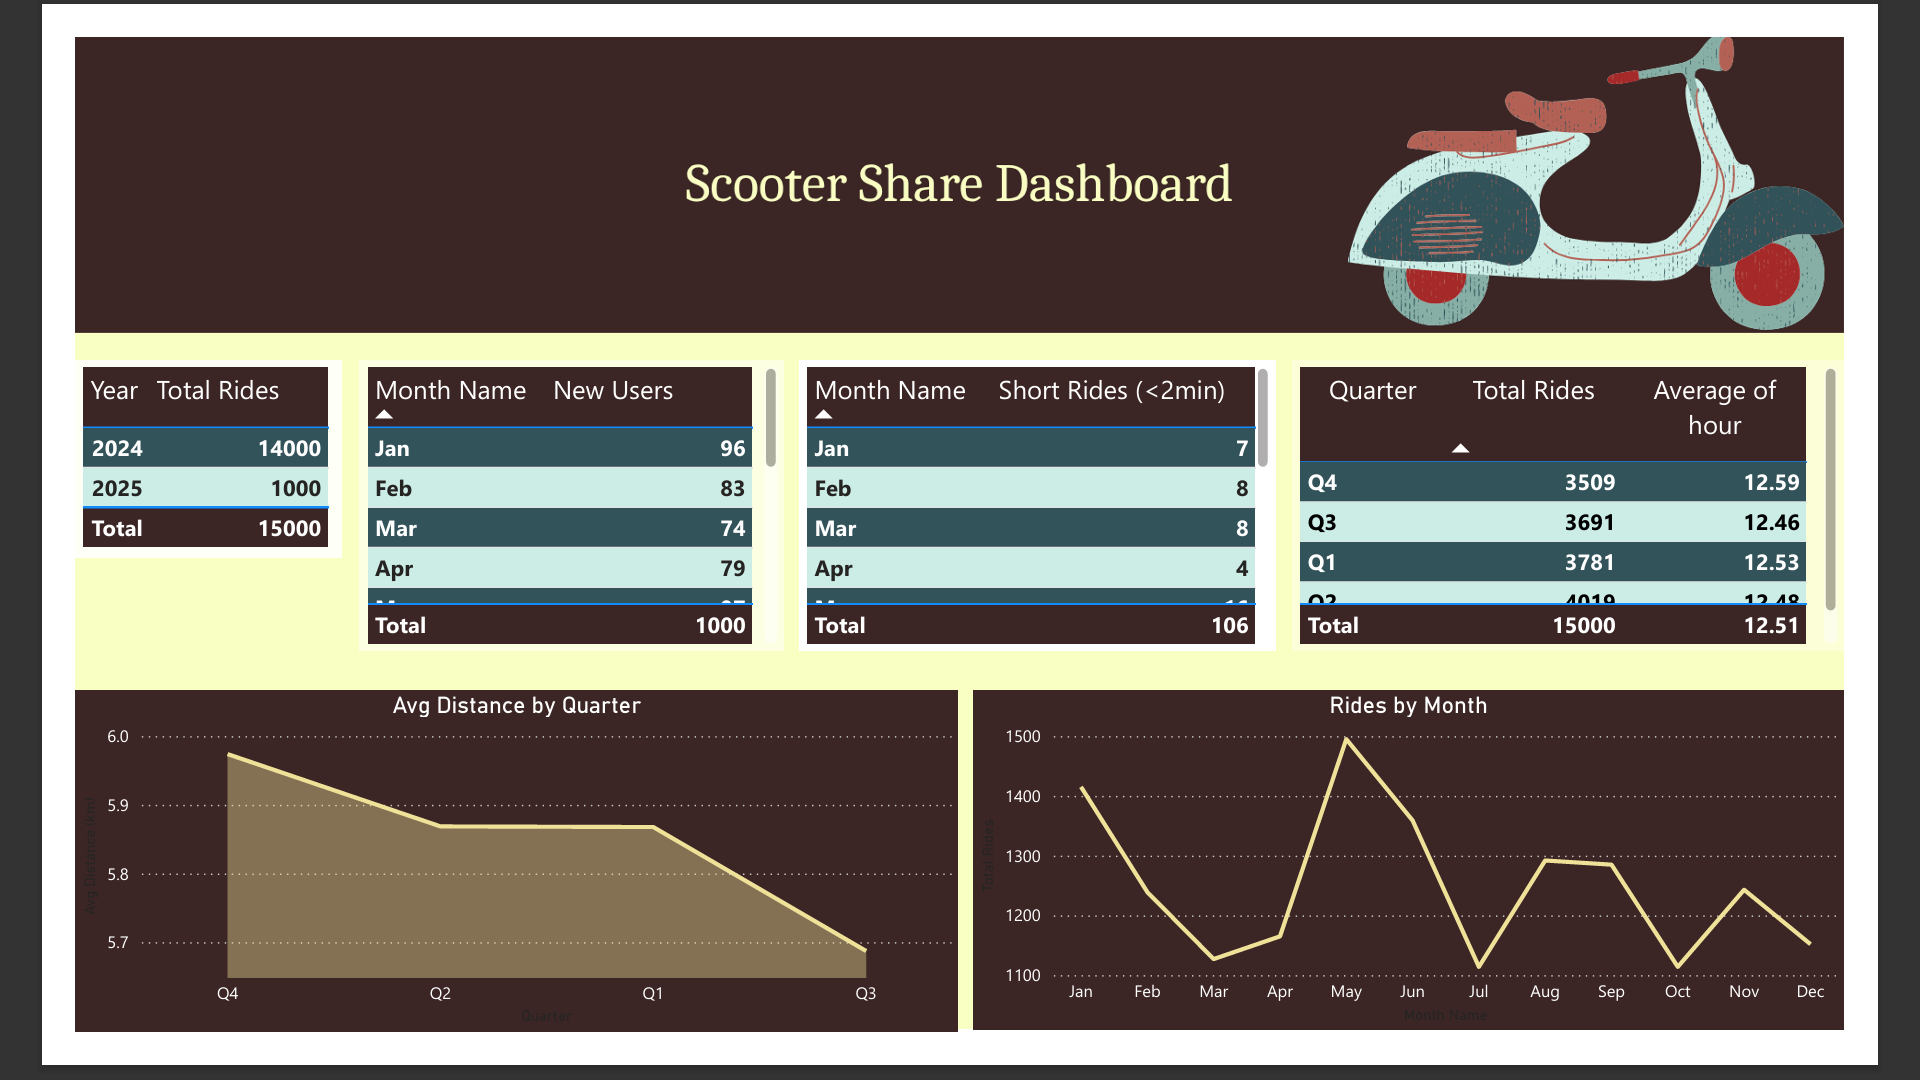

Layout of this report page (visuals, bound fields, positions):
{"tool":"powerbi","page":{"name":"Peak Hours","canvas":[1280,720],"ordinal":4},"visuals":[{"type":"tableEx","fields":{"Values":["Date.Year","rides measurements.Total Rides"]},"box":[0,233.8,192.5,143],"z":0},{"type":"lineChart","title":" Rides by Month ","fields":{"Category":["Date.Month Name"],"Y":["rides measurements.Total Rides"]},"box":[650.4,473.4,629.8,245.6],"z":1000},{"type":"areaChart","title":"Avg Distance by Quarter","fields":{"Y":["rides measurements.Avg Distance (km)"],"Category":["Date.Quarter"]},"box":[0,473.4,639.5,247],"z":2000},{"type":"tableEx","fields":{"Values":["Date.Month Name","user measurements.New Users"]},"box":[206.3,233.8,306.7,210.4],"z":3000},{"type":"tableEx","fields":{"Values":["Date.Month Name","rides measurements.Short Rides (<2min)"]},"box":[523.9,233.8,345.2,210.4],"z":3001},{"type":"tableEx","fields":{"Values":["Date.Quarter","rides measurements.Total Rides","Avg(rides.hour)"]},"box":[881.5,233.8,398.8,210.4],"z":3002}]}

Visuals, with their boxes in screenshot pixels (x1, y1, x2, y2), scaled from the page's 1280x720 canvas onto the 1920x1080 screenshot:
tableEx - Date.Year x rides measurements.Total Rides: bbox=(0, 351, 289, 565)
" Rides by Month " lineChart: bbox=(976, 710, 1919, 1078)
"Avg Distance by Quarter" areaChart: bbox=(0, 710, 959, 1079)
tableEx - Date.Month Name x user measurements.New Users: bbox=(309, 351, 770, 666)
tableEx - Date.Month Name x rides measurements.Short Rides (<2min): bbox=(786, 351, 1304, 666)
tableEx - Date.Quarter x rides measurements.Total Rides: bbox=(1322, 351, 1919, 666)
